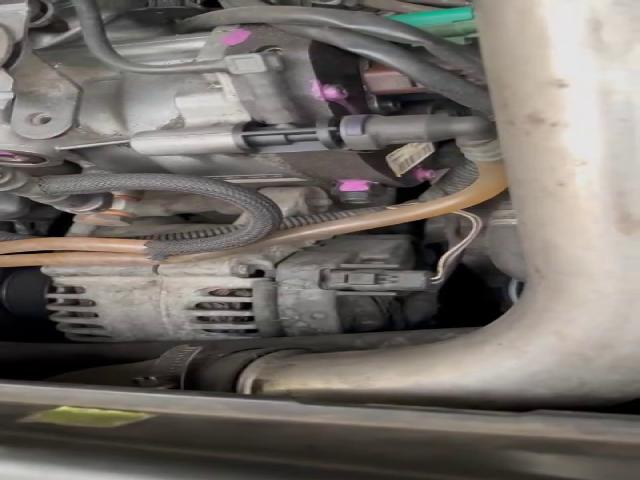alternator: (42, 247, 298, 342)
high_pressure_pump: (0, 23, 495, 209)
